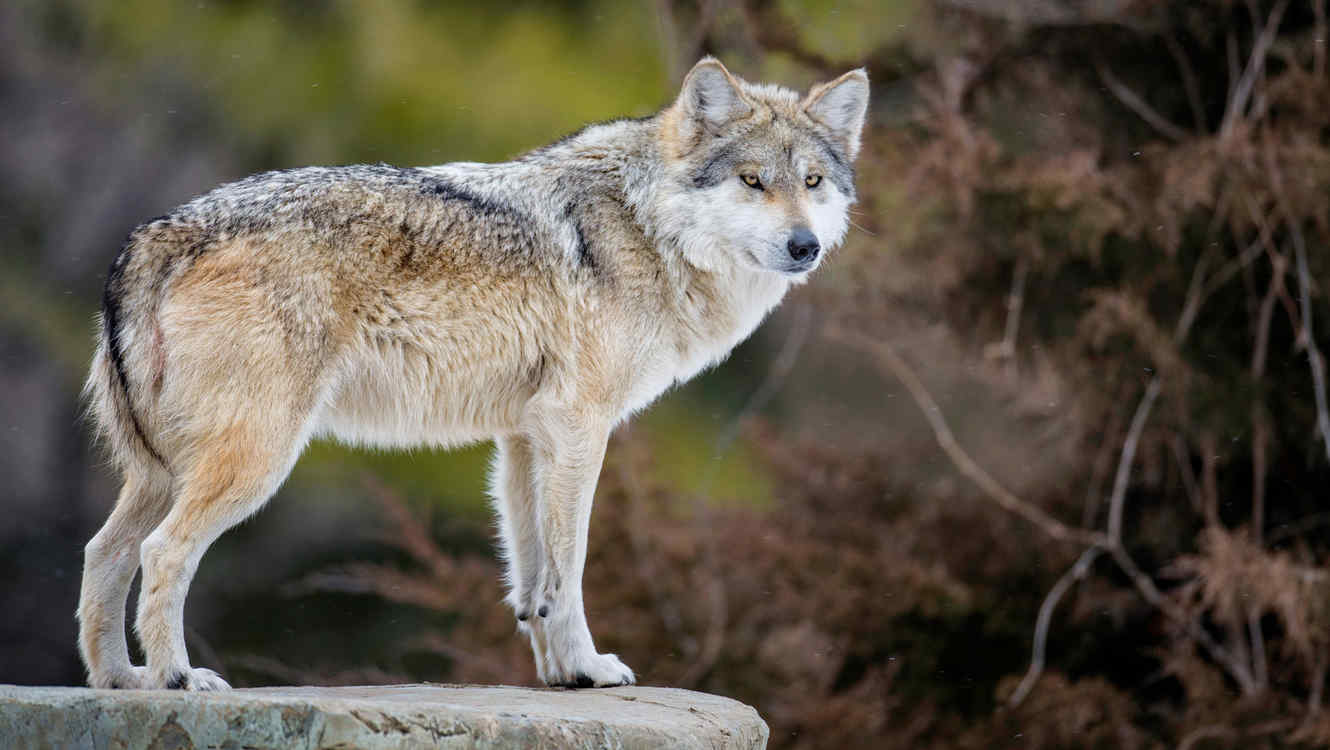Lobo: (33, 48, 884, 708)
